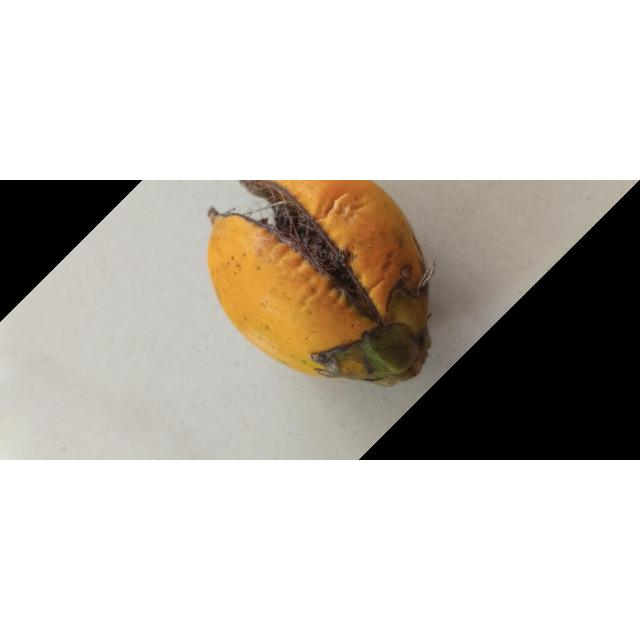damaged: (207, 180, 435, 387)
